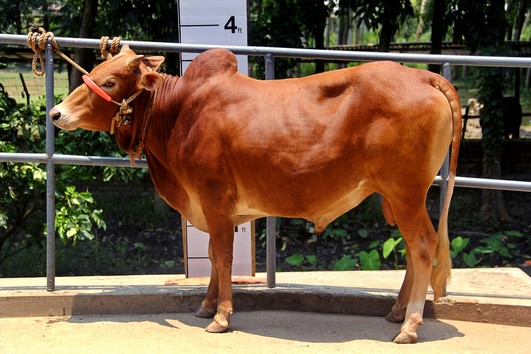cow: (47, 37, 465, 341)
